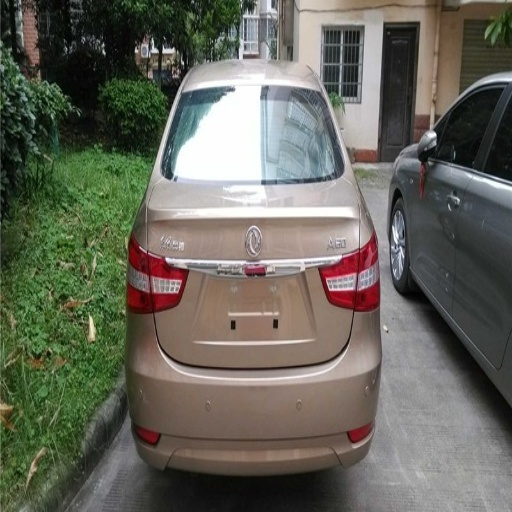back_bumper: (128, 305, 380, 476)
back_glass: (161, 85, 343, 182)
back_left_door: (464, 85, 509, 240)
back_left_light: (128, 229, 152, 311)
back_right_door: (417, 236, 456, 316)
